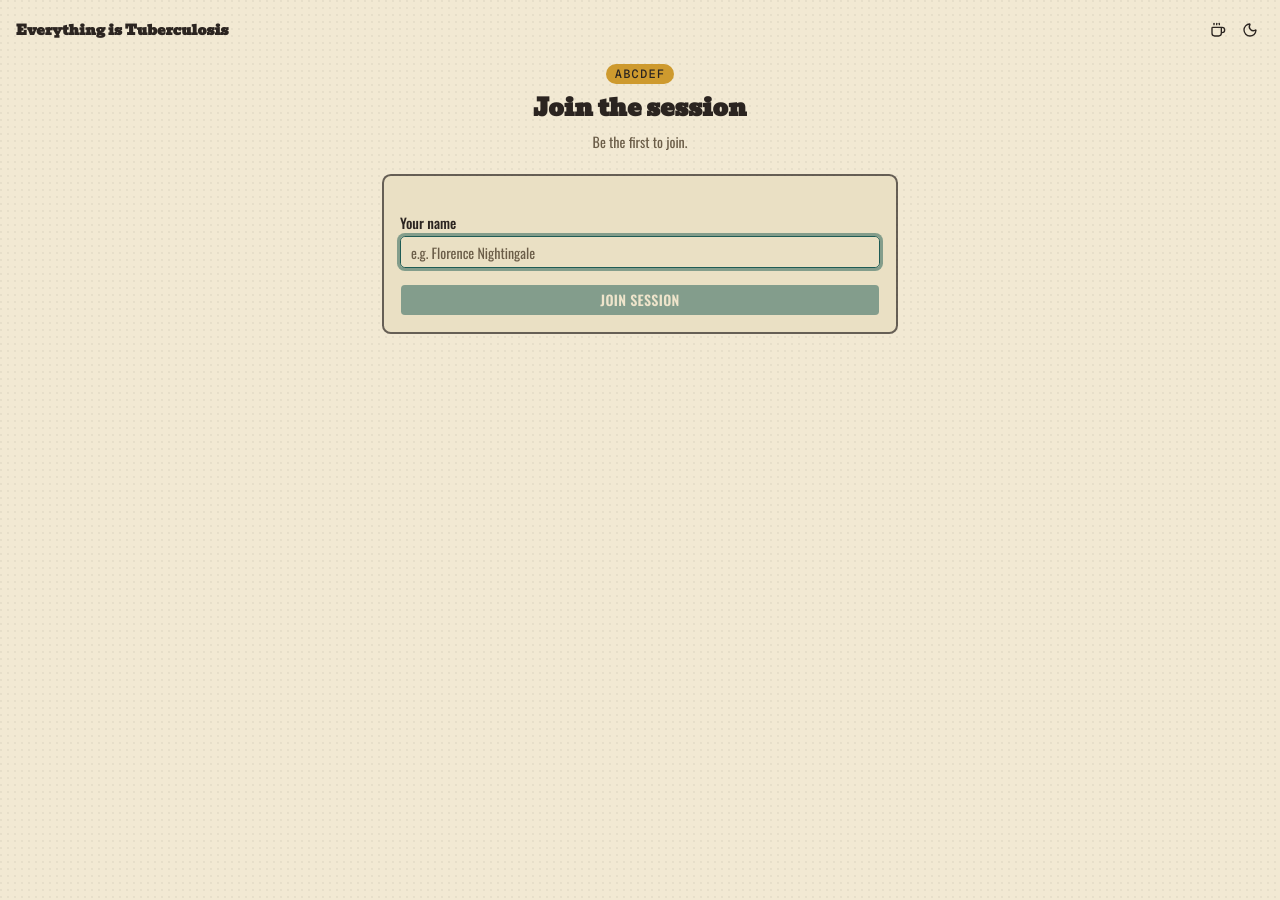
PartyRoom › shows a default join-error message when something other than an Error is thrown
Type "Bob" into the field labelled "Your name".
click(640, 252); type("Bob")  # box x1=400 y1=236 x2=880 y2=268
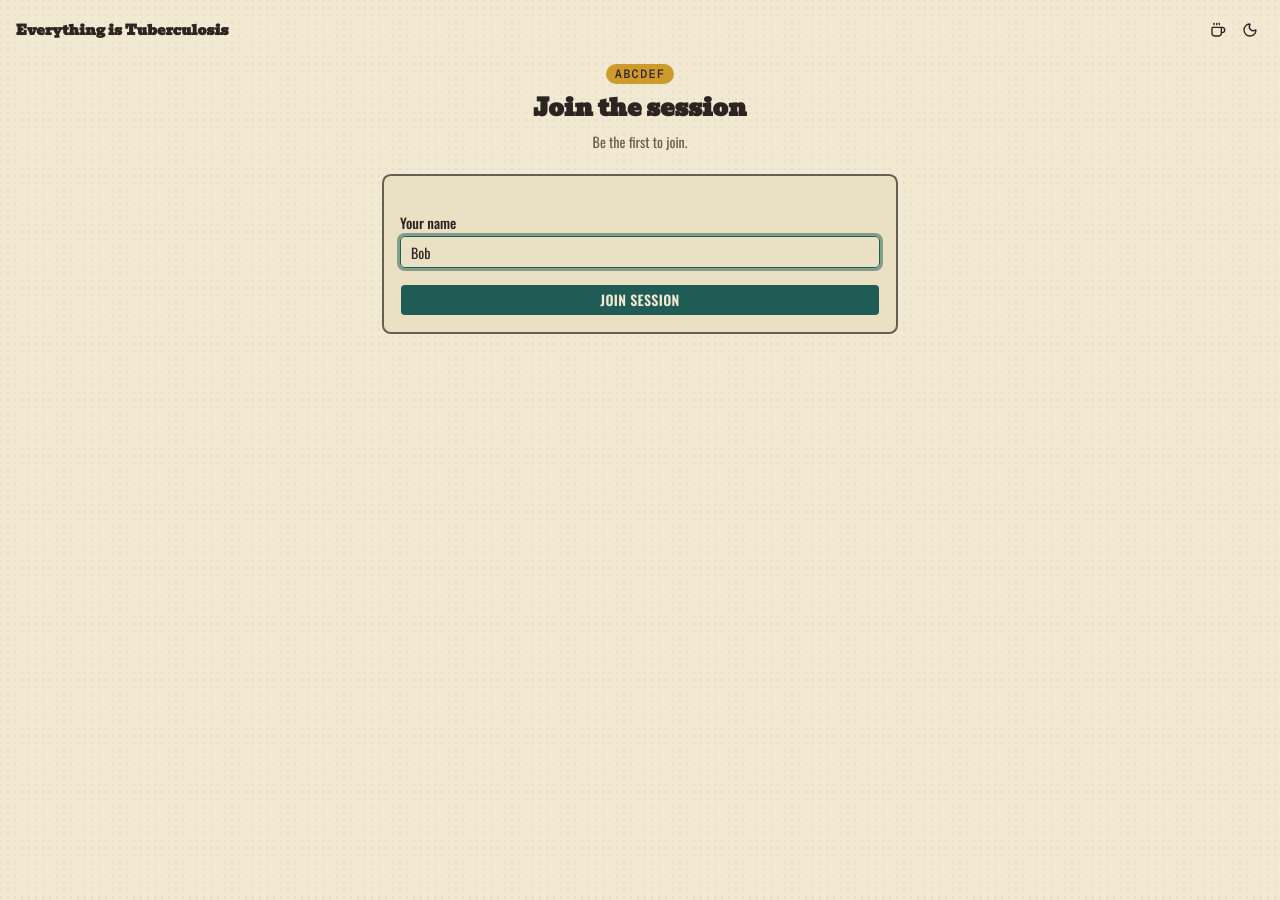
Click the button "Join Session".
click(640, 300)  # box x1=400 y1=284 x2=880 y2=316
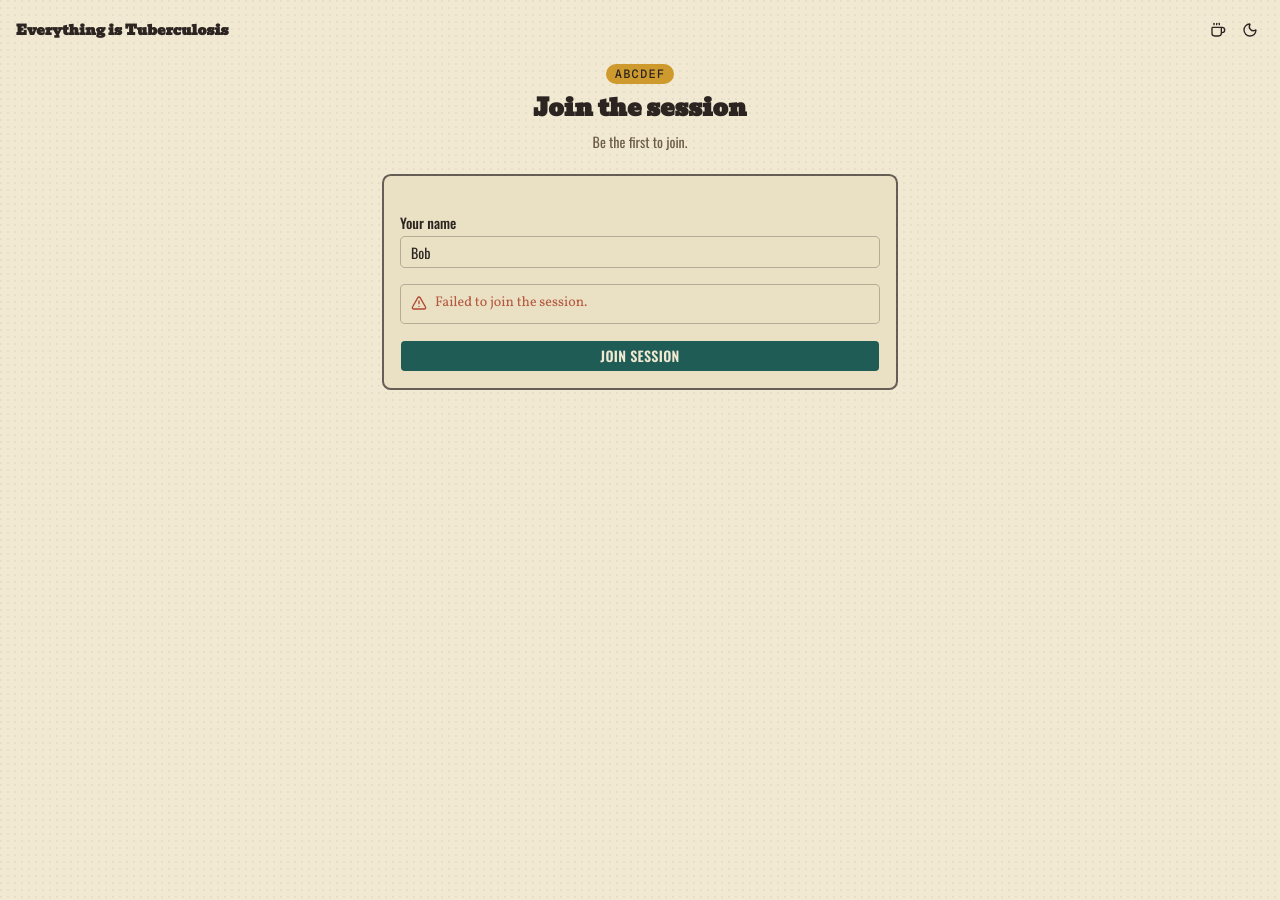
Now the text "Failed to join the session." is shown, box x1=435 y1=293 x2=587 y2=312
